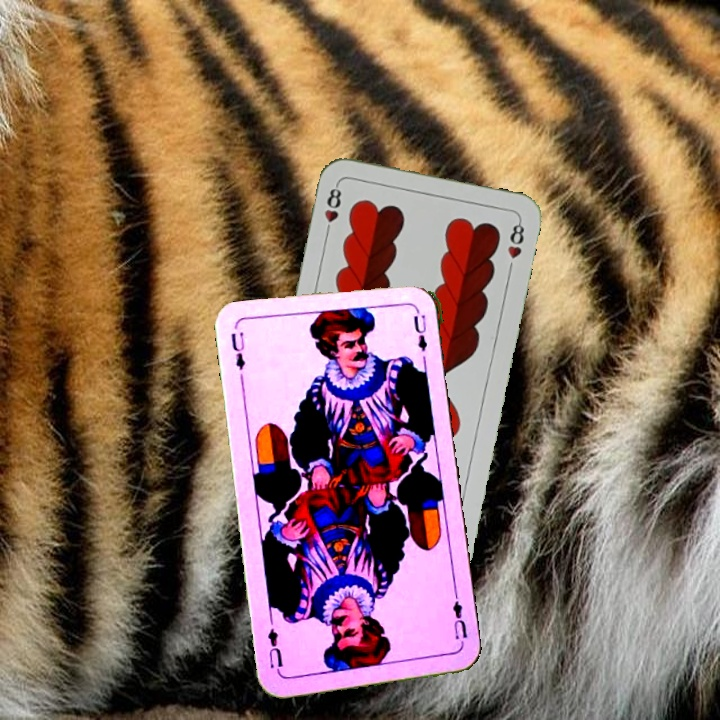EU: (446, 592, 470, 653), (227, 327, 248, 373)
H8: (320, 180, 344, 239)
